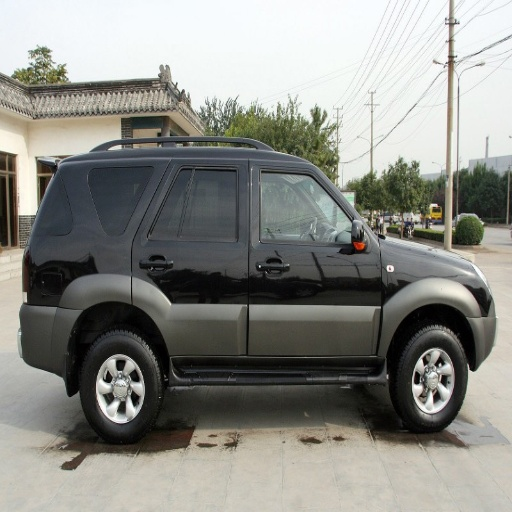_background_: (35, 309, 73, 341)
back_bumper: (39, 168, 160, 233)
back_left_light: (134, 154, 250, 374)
front_left_light: (247, 154, 381, 355)
trunk: (78, 328, 163, 442), (395, 324, 467, 432)
